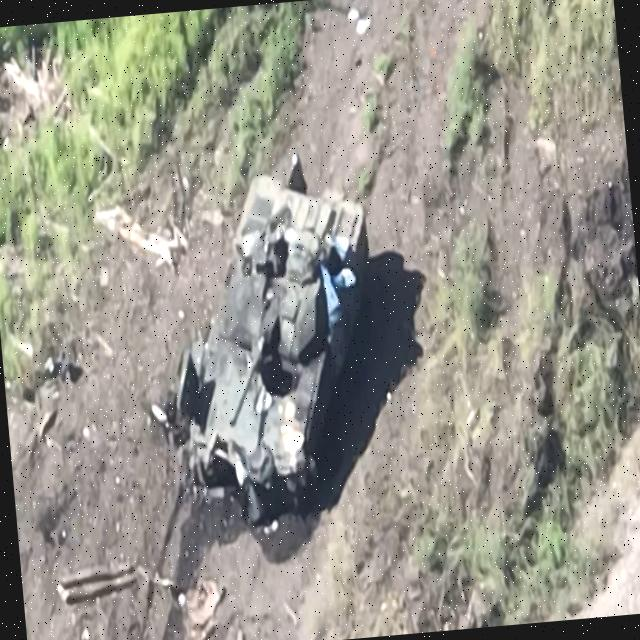AIFV: (159, 152, 394, 522)
